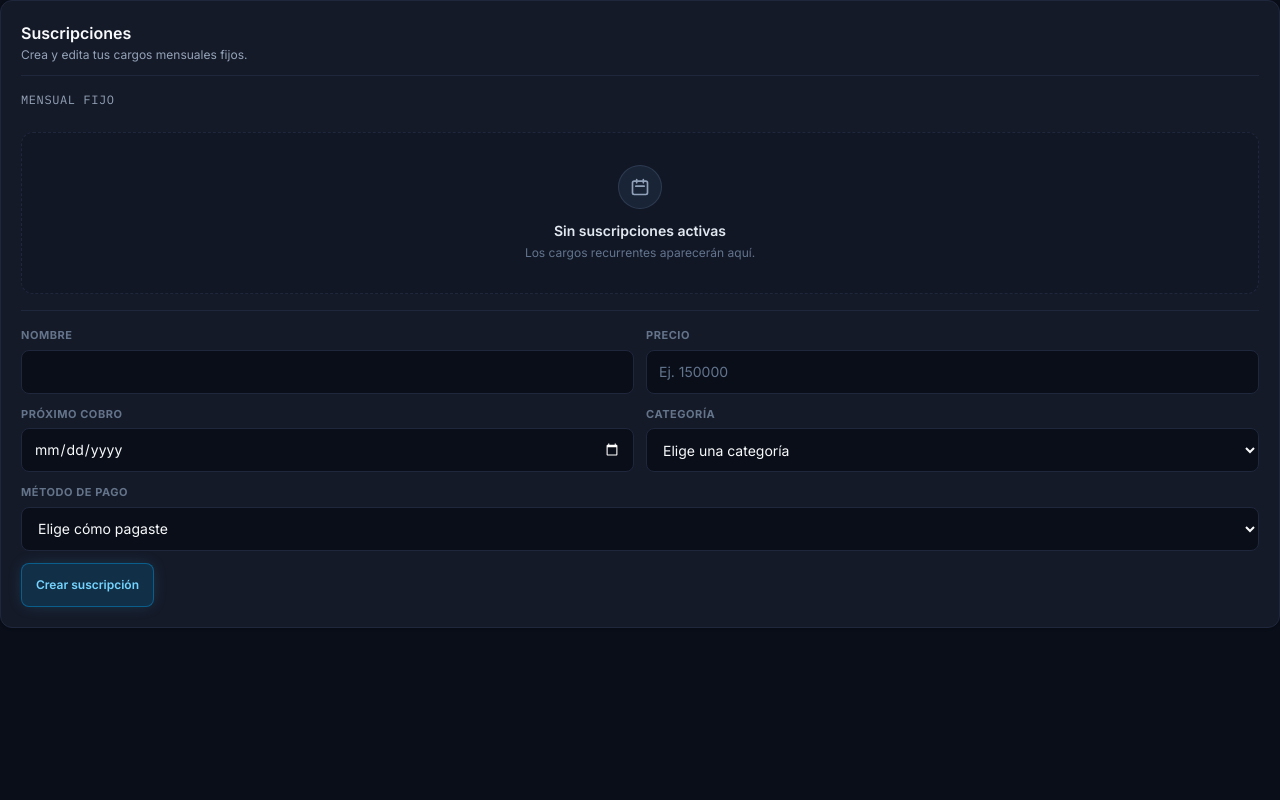
Scenario: SubscriptionsSection › blocks an invalid price with a Spanish error and sends no request
Expected: the form "Crear suscripción" is shown, [21,327,1259,606]
Type "Streaming" into the field labelled "Nombre" at coordinates (328, 372), box [21,350,634,394]
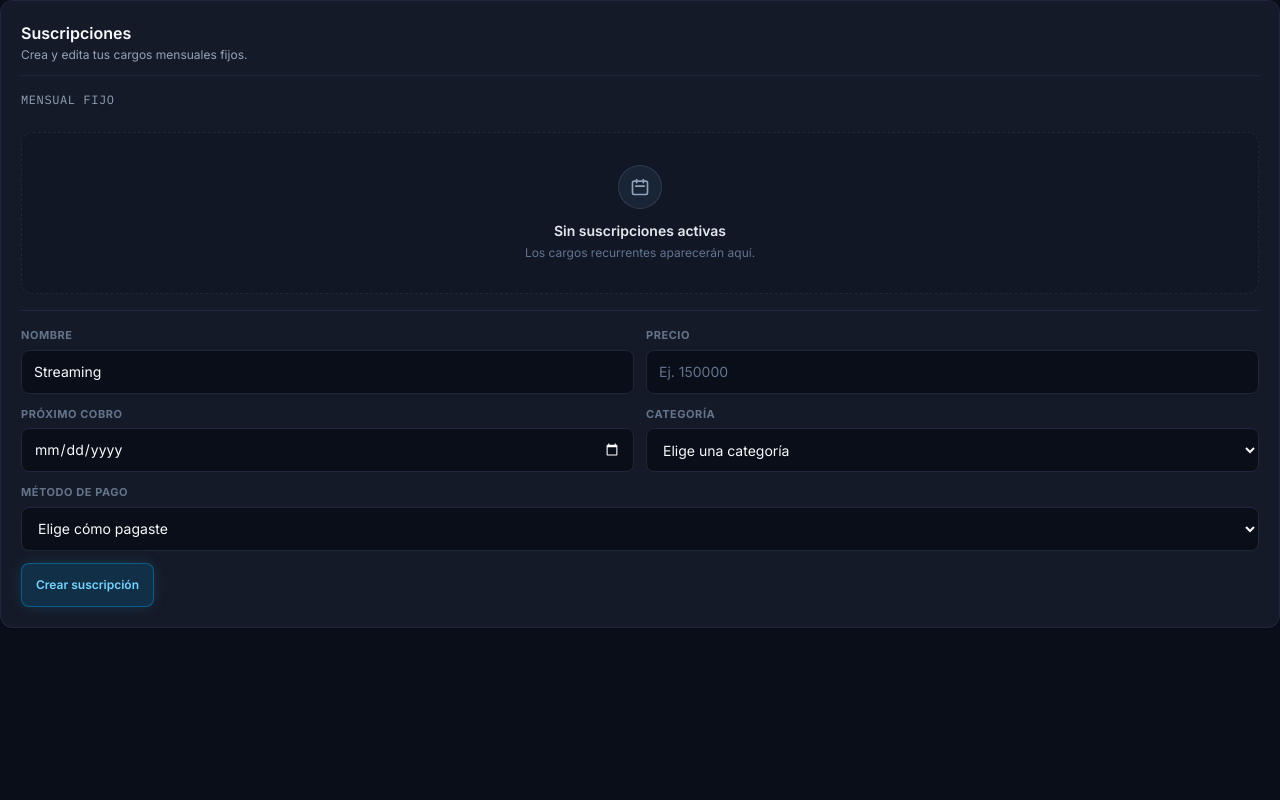
Type "abc" into the field labelled "Precio" at coordinates (952, 372), box [646,350,1259,394]
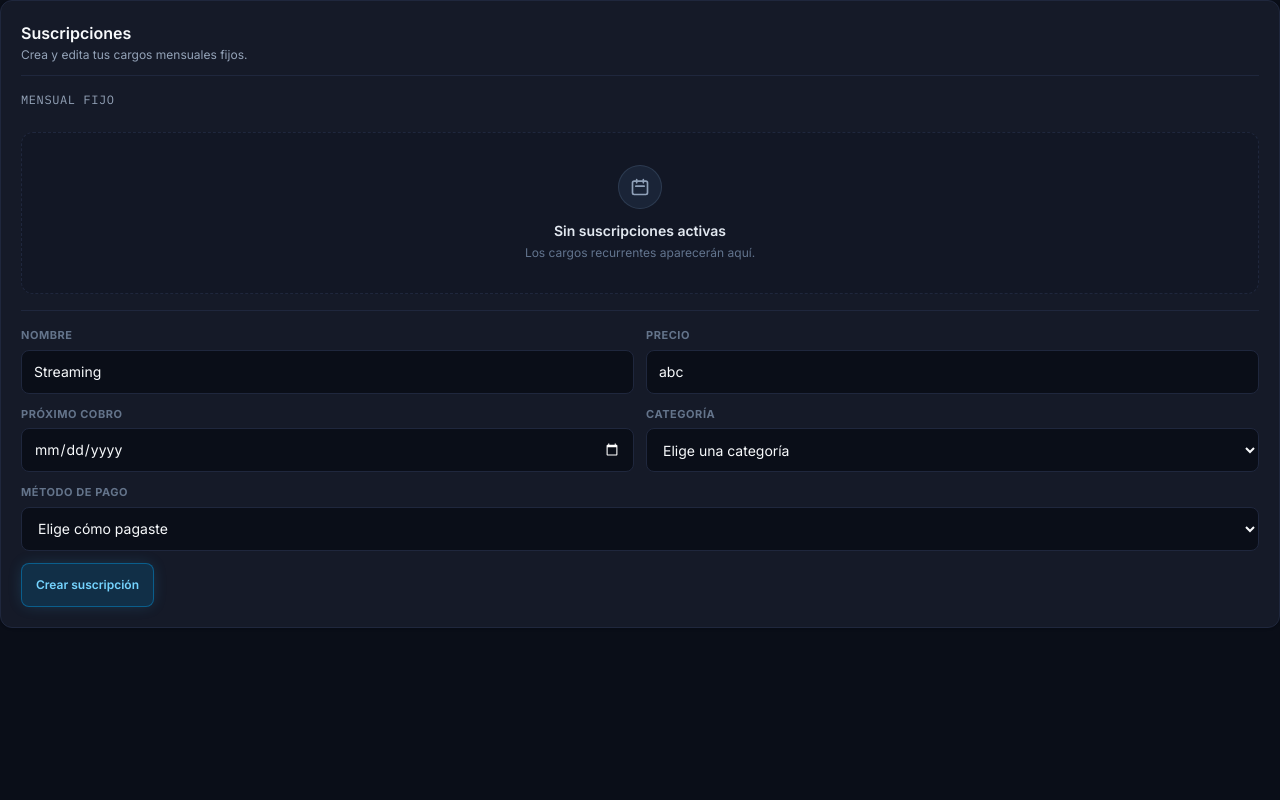
Type "2026-10-15" into the date field labelled "Próximo cobro" at coordinates (328, 450), box [21,428,634,472]
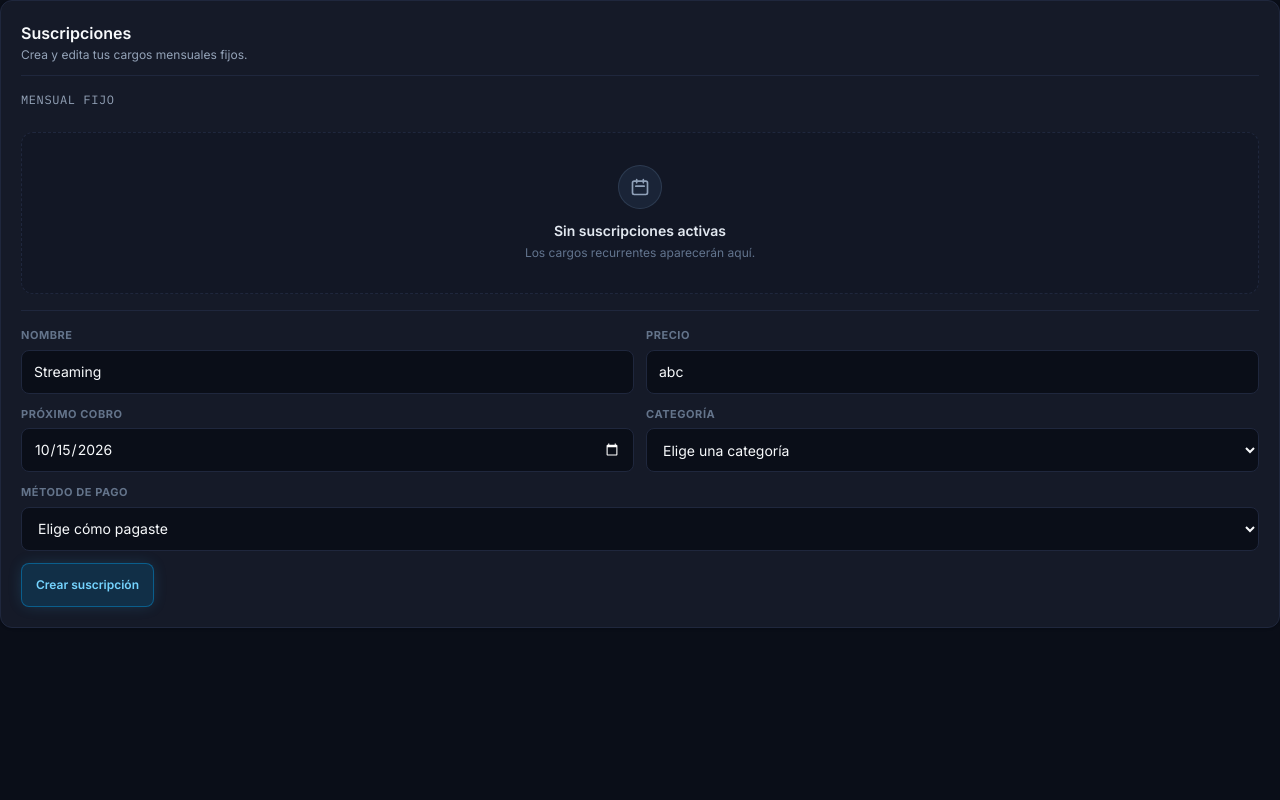
Click the button "Crear suscripción" at coordinates (88, 584), box [21,562,154,606]
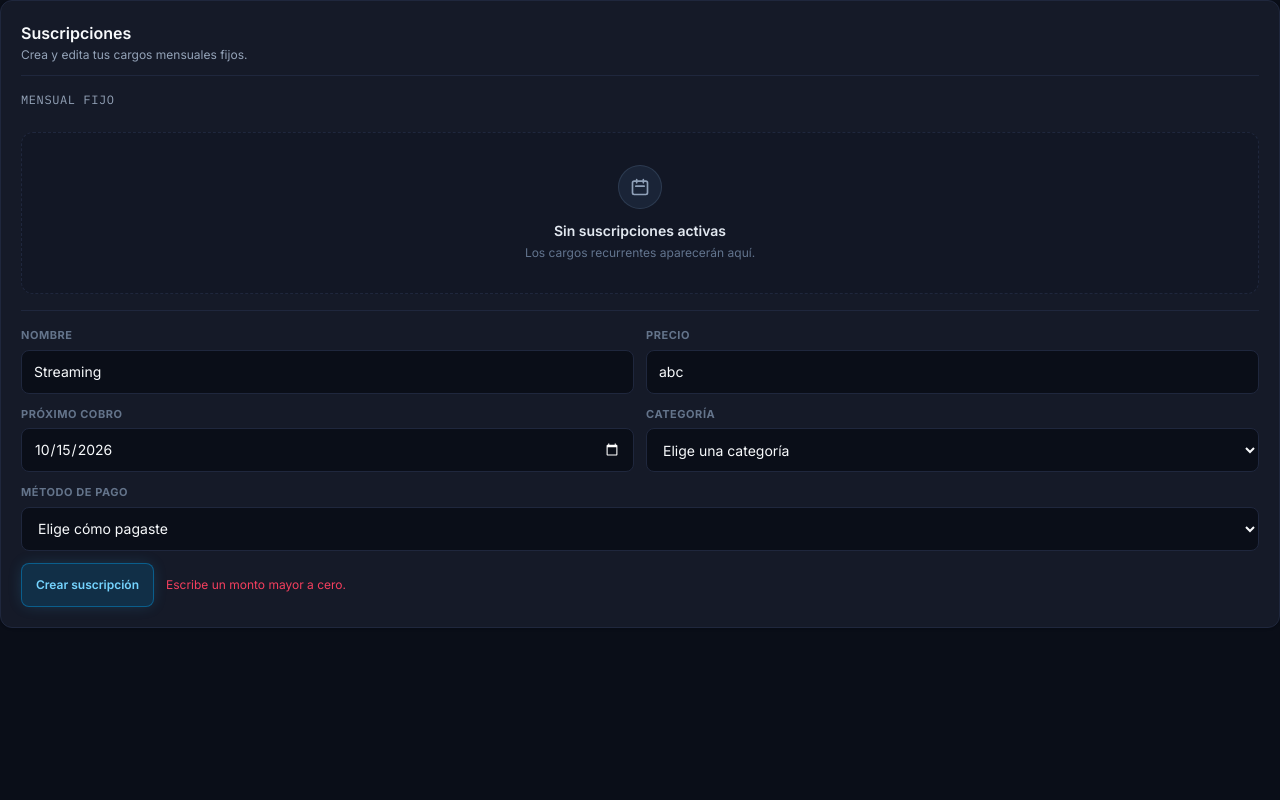
Expected: the message "Escribe un monto mayor a cero." is shown, [166,576,346,592]
